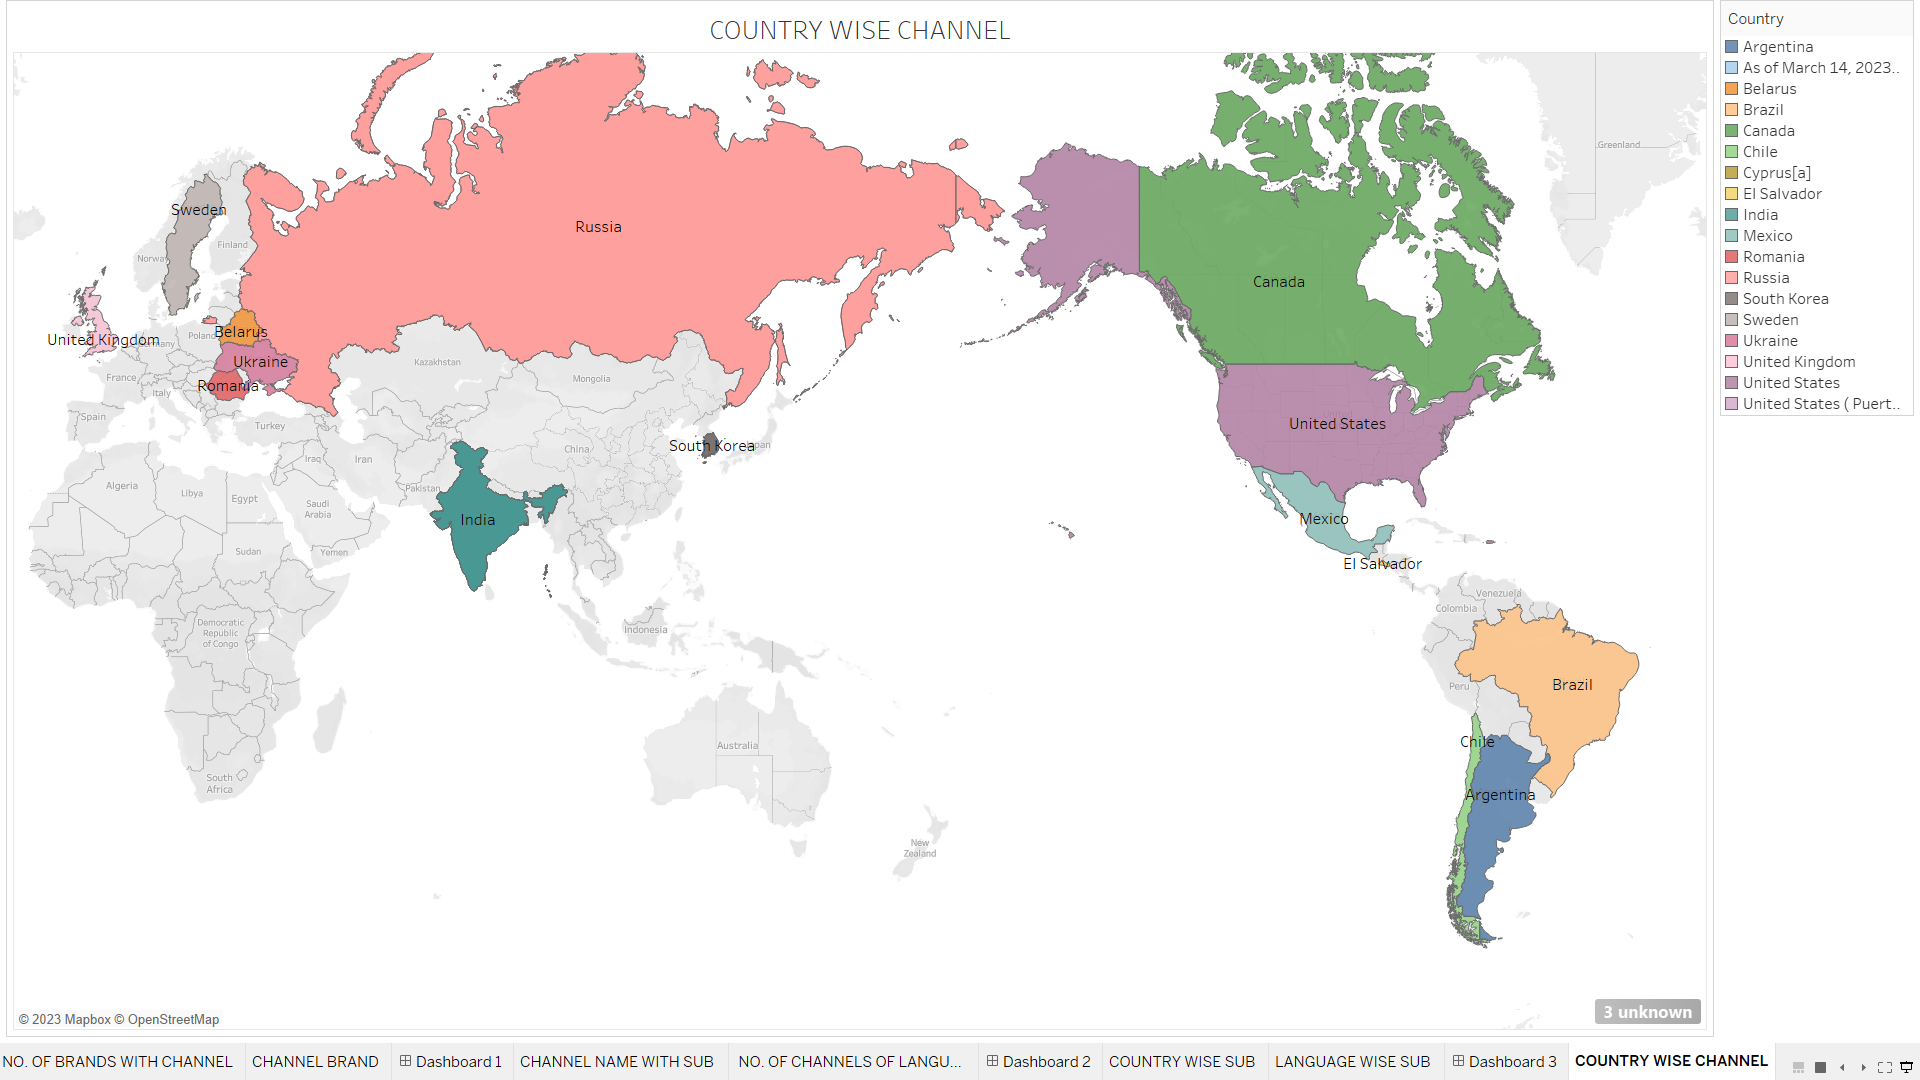

The dashboard page shown, as its layout file describes it:
{"tool":"tableau","page":{"name":"Dashboard 4","canvas":[1000,800],"ordinal":3},"visuals":[{"type":"worksheet","title":"COUNTRY WISE CHANNEL","mark":"Multipolygon","box":[8,8,824,784]},{"type":"legend","title":"COUNTRY WISE CHANNEL","param":"[federated.1kwdbhw1eljqcs1cayi8c0mah2rt].[none:Country:nk]","box":[832,8,160,408]}]}

Visuals, with their boxes on the page's 1000x800 design canvas (x1, y1, x2, y2). These are canvas units, not pixel positions in the 1920x1080 screenshot, which may show the page scaled, cropped or inside an application window:
"COUNTRY WISE CHANNEL" worksheet (Multipolygon marks): 8 8 832 792
"COUNTRY WISE CHANNEL" legend: 832 8 992 416
